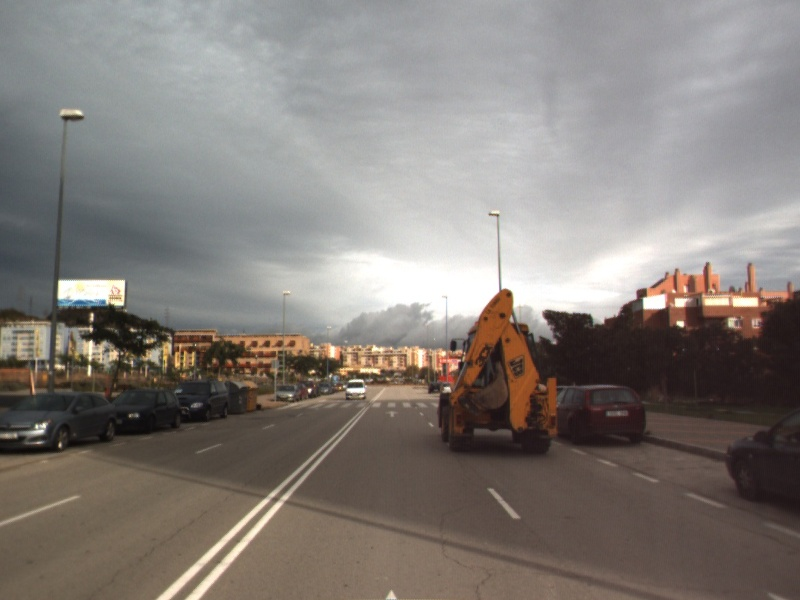STRAIGHT: (384, 409, 401, 419)
